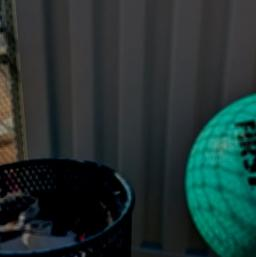algae: (182, 93, 256, 257)
